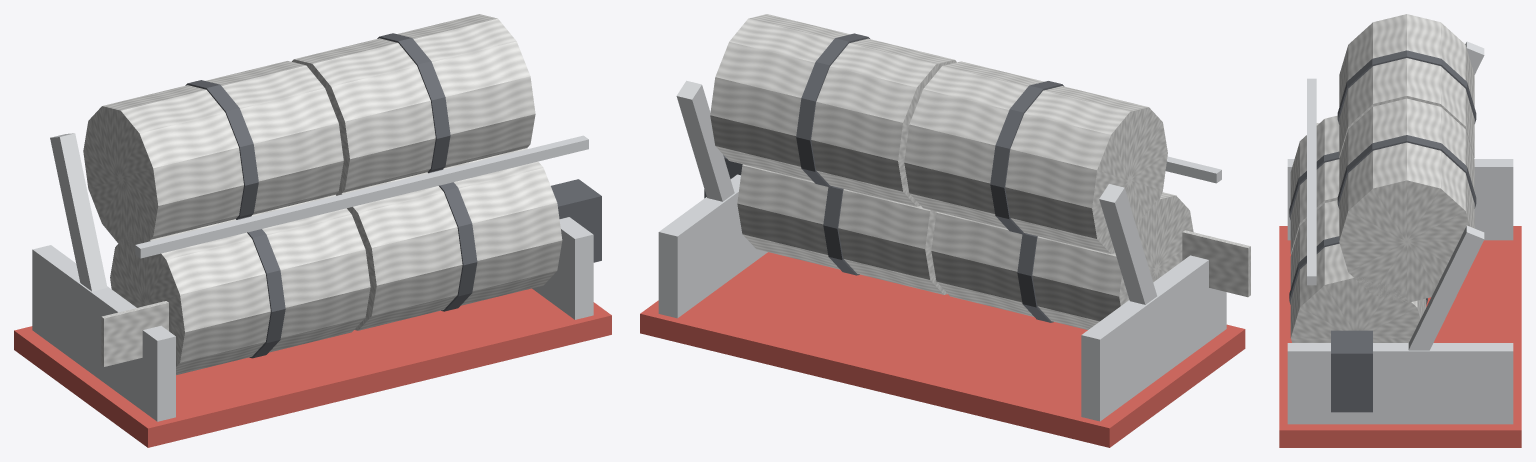
Rendered from cruise-ship-deck-and-lounge-cruise-ship-deck-and-loung-a5b7ef88__38419.glb.
3 renders of one model, left to right at view 1: azimuth 30°, elevation 25°; view 2: azimuth 150°, elevation 25°; view 3: azimuth 270°, elevation 25°, orthographic. The views are drawn at different scales.
Visible parts, largest first — view 1: cruise-ship-deck-and-lounge-liferaft-canister-rack; view 2: cruise-ship-deck-and-lounge-liferaft-canister-rack; view 3: cruise-ship-deck-and-lounge-liferaft-canister-rack.
Boxes of the visible parts, left/top/right/bottom form: cruise-ship-deck-and-lounge-liferaft-canister-rack: left=14, top=14, right=611, bottom=447; cruise-ship-deck-and-lounge-liferaft-canister-rack: left=640, top=14, right=1250, bottom=447; cruise-ship-deck-and-lounge-liferaft-canister-rack: left=1279, top=14, right=1521, bottom=447.
Size of the model in its own units: 3.28 by 1.71 by 1.5.
4 materials, 1 textured.
